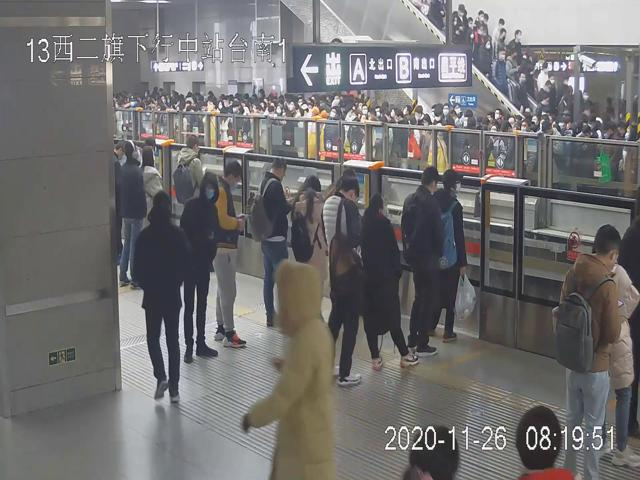person: (556, 221, 622, 480), (134, 189, 190, 404), (361, 192, 420, 370), (322, 175, 363, 388), (402, 166, 443, 358), (180, 172, 220, 362), (215, 160, 248, 348), (259, 154, 292, 329), (436, 167, 467, 344)
